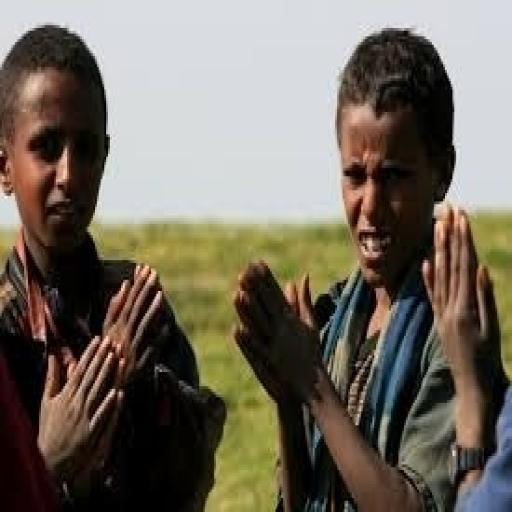clapping: (231, 22, 510, 510), (0, 20, 227, 509)
